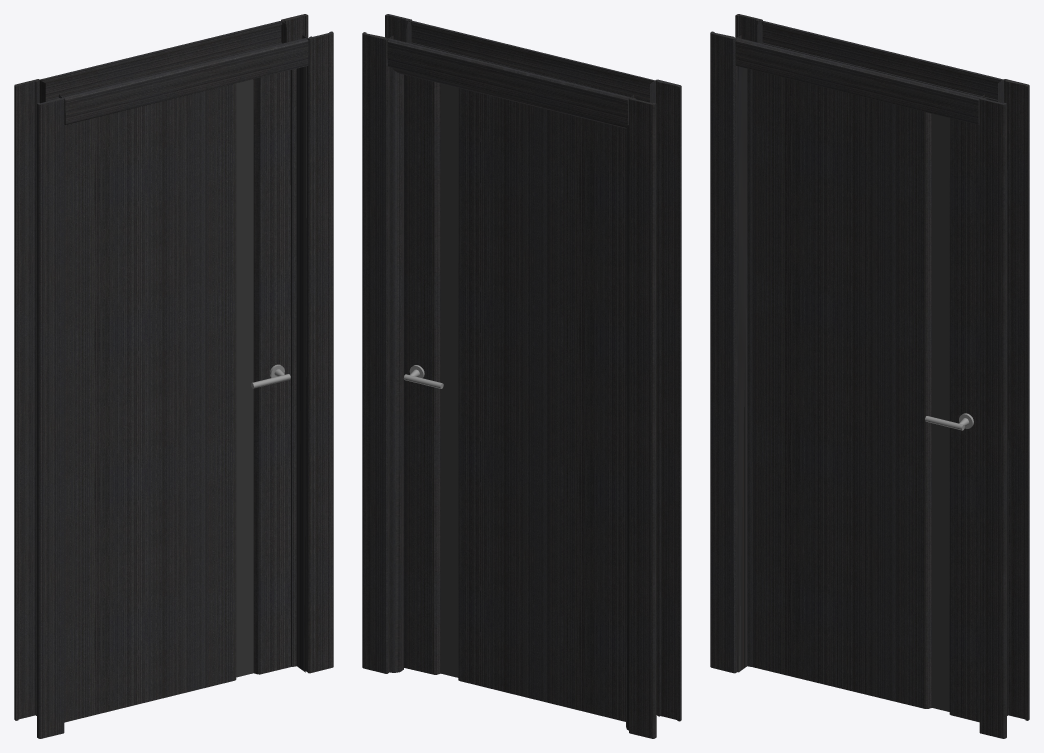
The model's file is Door.FBX.
3 views of the same model, side by side, from view 1: azimuth 30°, elevation 25°; view 2: azimuth 150°, elevation 25°; view 3: azimuth 330°, elevation 25° (orthographic).
Visible parts, largest first — view 1: Door, Doorframe; view 2: Door, Doorframe; view 3: Door, Doorframe.
Part boxes in pixels (x1,y1,x2,y2): Door: (64, 70, 290, 722); Doorframe: (14, 14, 333, 738); Door: (403, 74, 626, 721); Doorframe: (362, 14, 681, 738); Door: (752, 70, 979, 722); Doorframe: (710, 14, 1029, 738).
Bounding box in the file's own units: 103 × 212 × 16.55.
3 materials, 1 textured.
